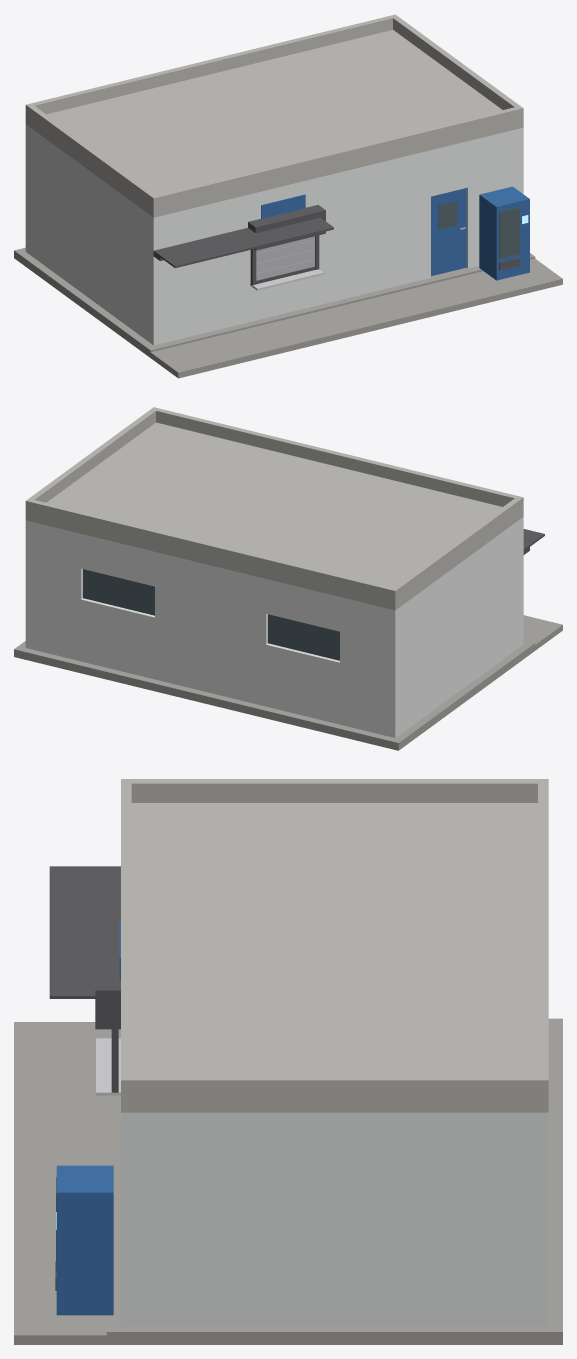
Rendered from SM_PPEStore.fbx.
3 renders of one model, top to bottom at view 1: azimuth 30°, elevation 25°; view 2: azimuth 150°, elevation 25°; view 3: azimuth 270°, elevation 25°, orthographic. The views are drawn at different scales.
Parts seen in each view (by area): view 1: PPE_Roof, PPE_Walls, PPE_Floor, PPE_Vending, PPE_Door, PPE_HatchFrame, PPE_HatchShutter; view 2: PPE_Walls, PPE_Roof, PPE_Floor; view 3: PPE_Roof, PPE_Walls, PPE_Floor, PPE_Vending, PPE_HatchFrame.
Boxes of the visible parts, x1,y1,x2,y2 form: PPE_Roof: (25, 14, 523, 217); PPE_Walls: (25, 124, 523, 345); PPE_Floor: (14, 247, 562, 378); PPE_Vending: (479, 186, 529, 280); PPE_Door: (431, 188, 466, 276); PPE_HatchFrame: (248, 205, 325, 290); PPE_HatchShutter: (256, 236, 315, 284); PPE_Walls: (25, 517, 544, 737); PPE_Roof: (25, 407, 523, 610); PPE_Floor: (14, 615, 562, 750); PPE_Roof: (121, 779, 548, 1112); PPE_Walls: (49, 866, 548, 1325); PPE_Floor: (14, 1018, 562, 1344); PPE_Vending: (55, 1165, 113, 1315); PPE_HatchFrame: (95, 933, 120, 1095).
Size of the model in its own units: 1040 by 400 by 770.
